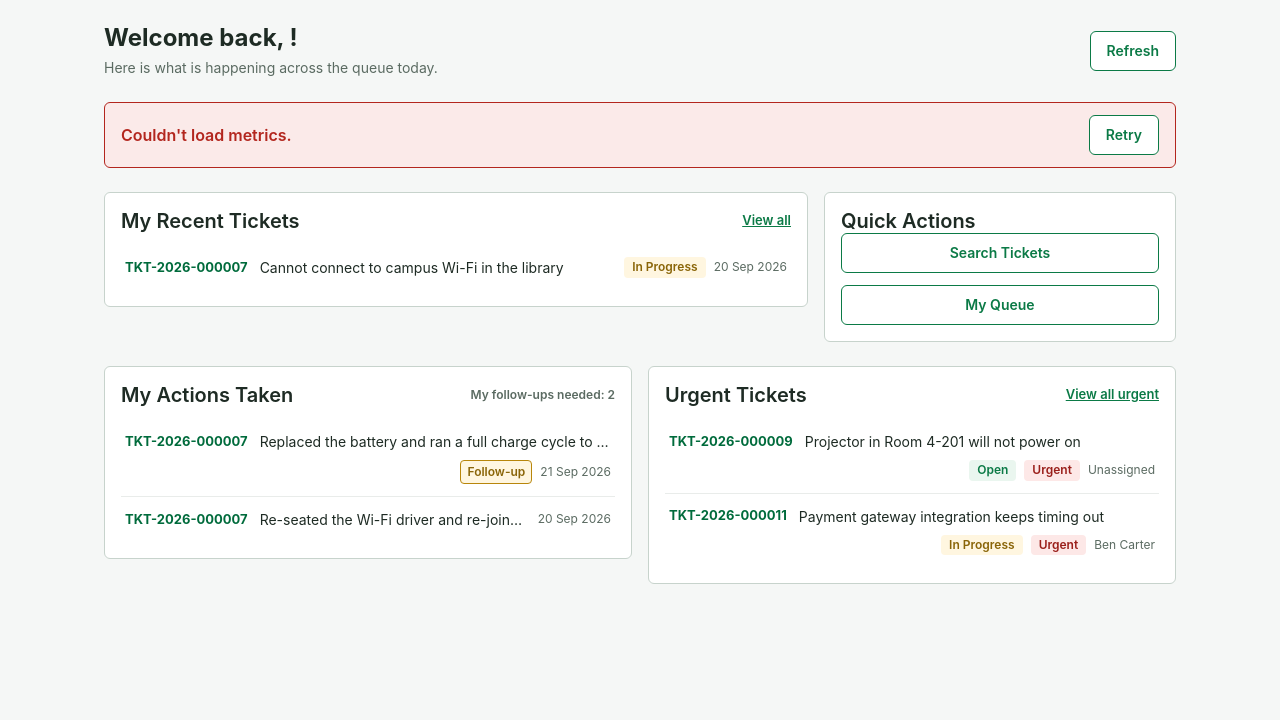
it: UI-08 — one failed group shows retry while the other still renders (ui-spec §2.4) › Retry re-fetches the failed group and recovers it
Expected: the message "Couldn't load metrics. Retry" is shown, [104,102,1176,168]
Click the button "Retry".
click(1124, 135)  # box [1089,115,1159,155]
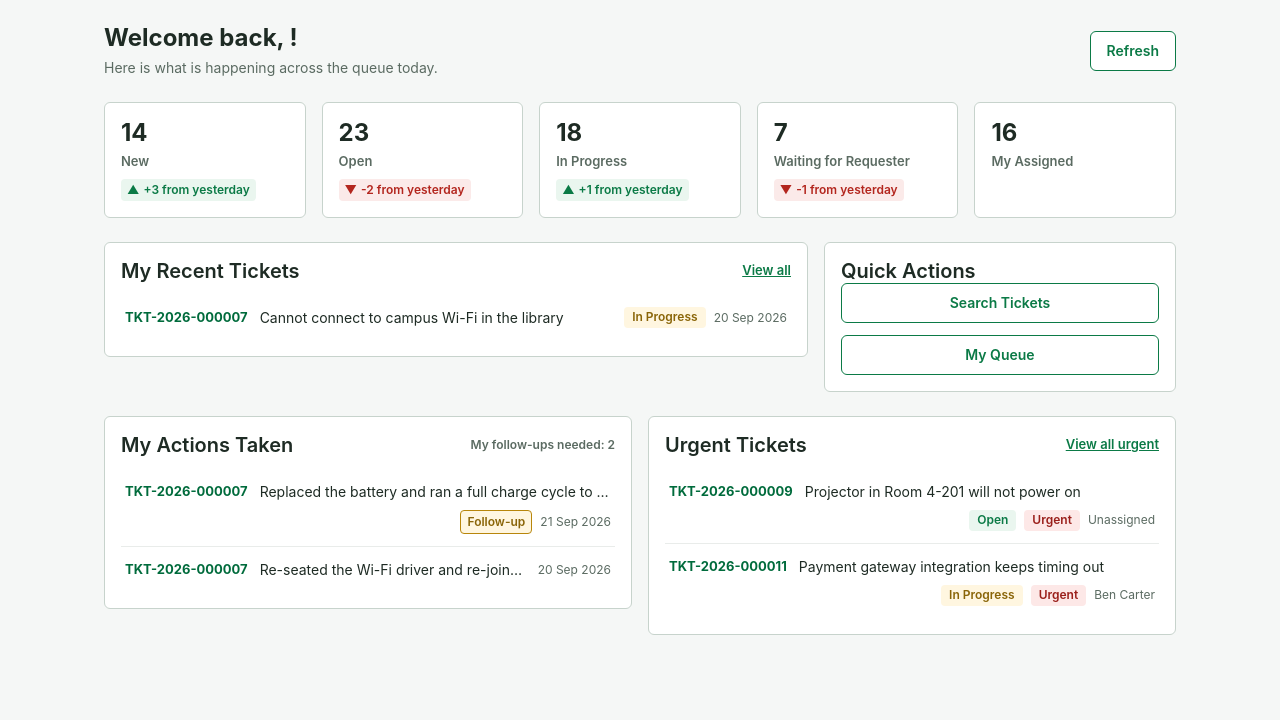
Now the element with test id "metric-cards" is shown, box [104,102,1176,218]
Now the message with test id "metrics-error" is gone
